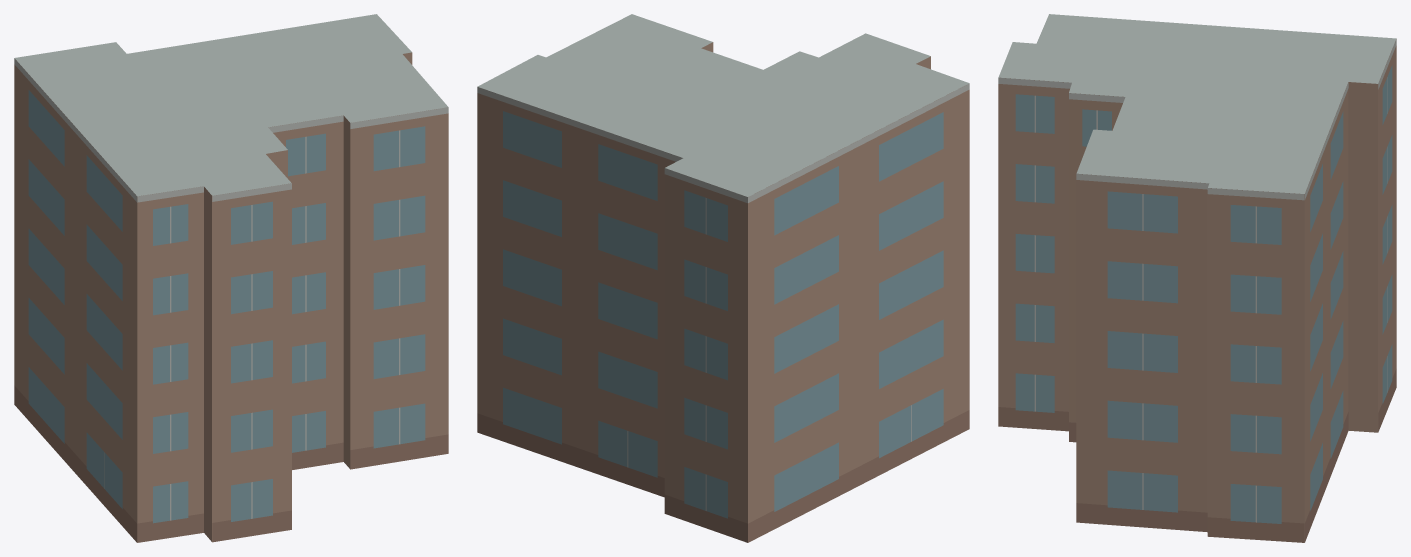
Rendered from survey-upis-32655560.glb.
The picture shows the model from 3 angles, left to right: view 1: azimuth 30°, elevation 25°; view 2: azimuth 150°, elevation 25°; view 3: azimuth 270°, elevation 25°; orthographic projection.
Parts seen in each view (by area): view 1: survey-upis-32655560.tmp; view 2: survey-upis-32655560.tmp; view 3: survey-upis-32655560.tmp.
Boxes of the visible parts, <box> form: survey-upis-32655560.tmp: <box>14,14,448,542</box>; survey-upis-32655560.tmp: <box>477,14,969,542</box>; survey-upis-32655560.tmp: <box>998,14,1396,542</box>.
Bounding box in the file's own units: 15.07 × 13.6 × 14.08.
